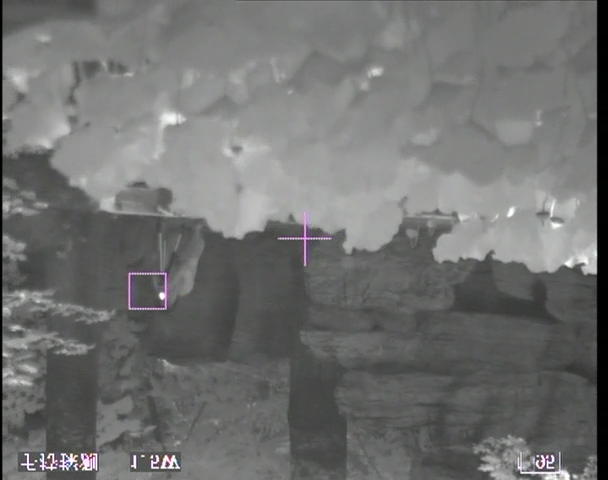my: (156, 290, 167, 303)
